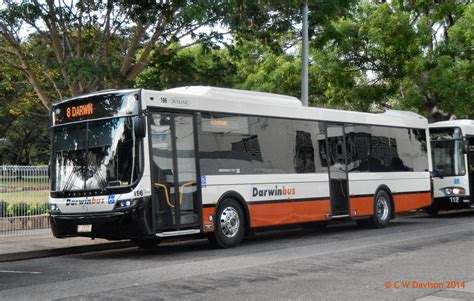bus: (52, 96, 431, 238)
